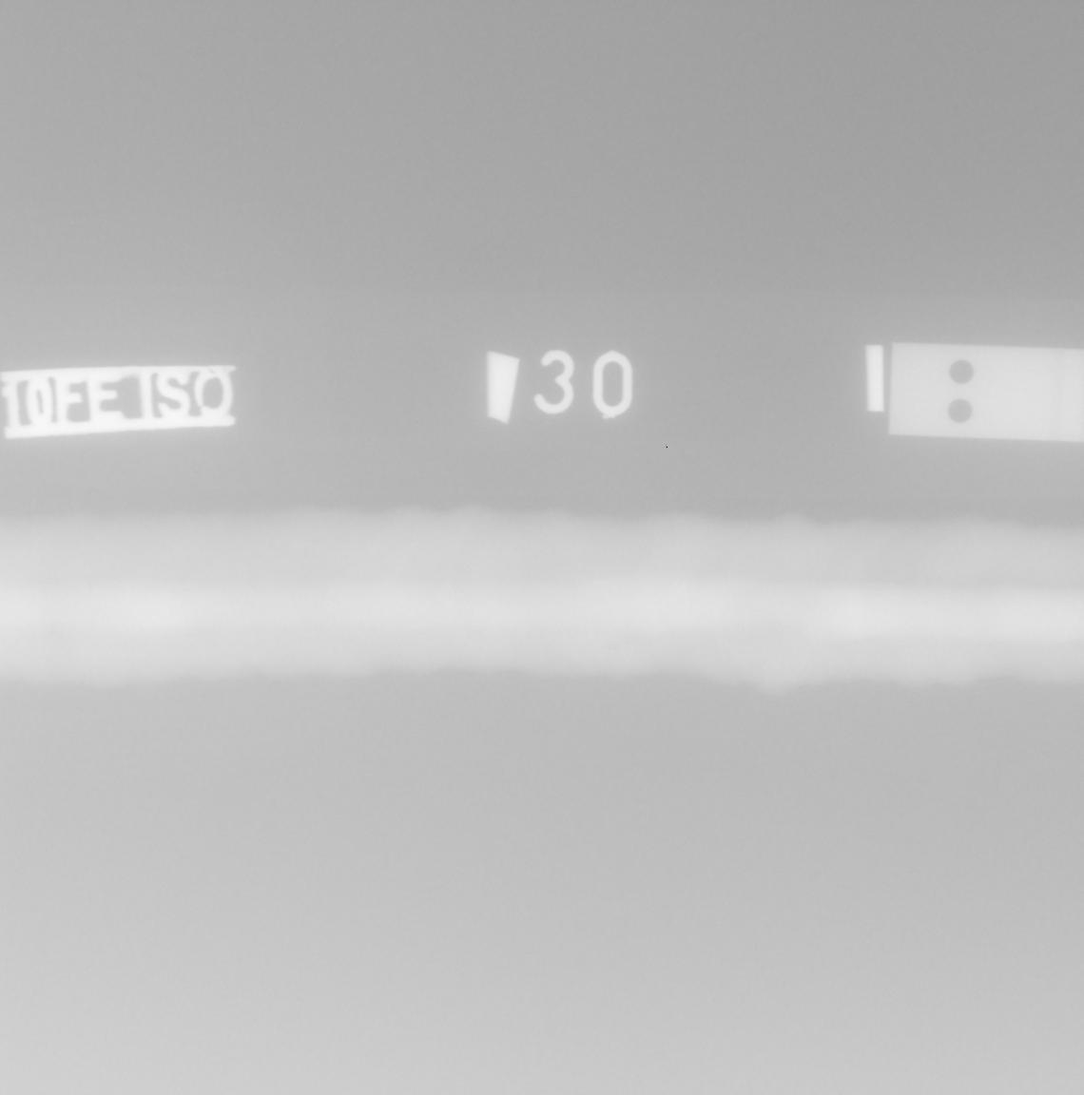Inclusion: (603, 643, 630, 651)
Pore/Porosity: (89, 584, 92, 587)
